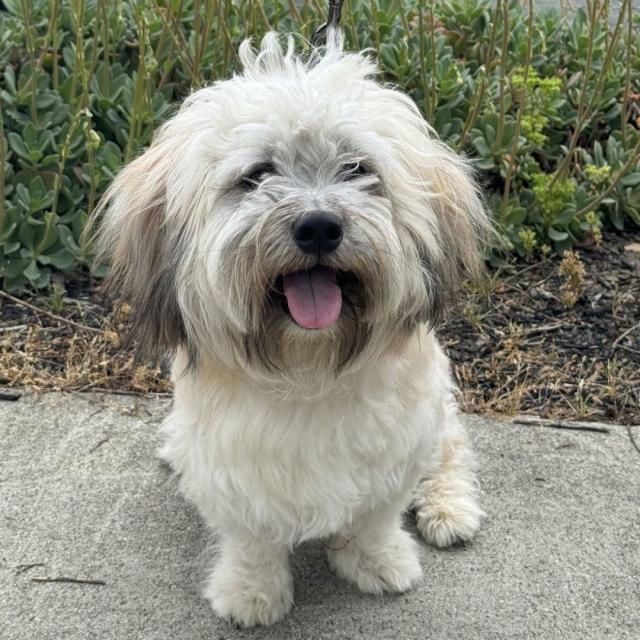shih_tzu_dog: (79, 28, 512, 406)
